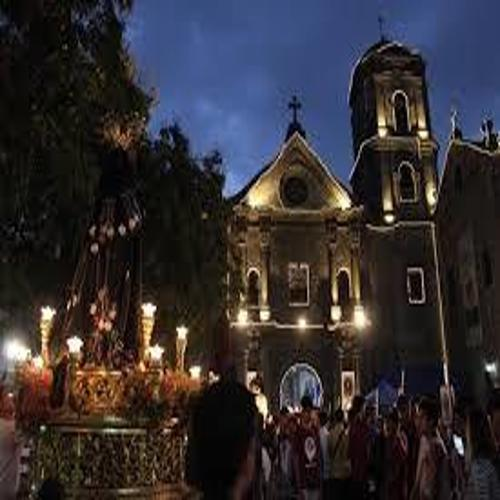San Agustin Church: (221, 12, 459, 425)
